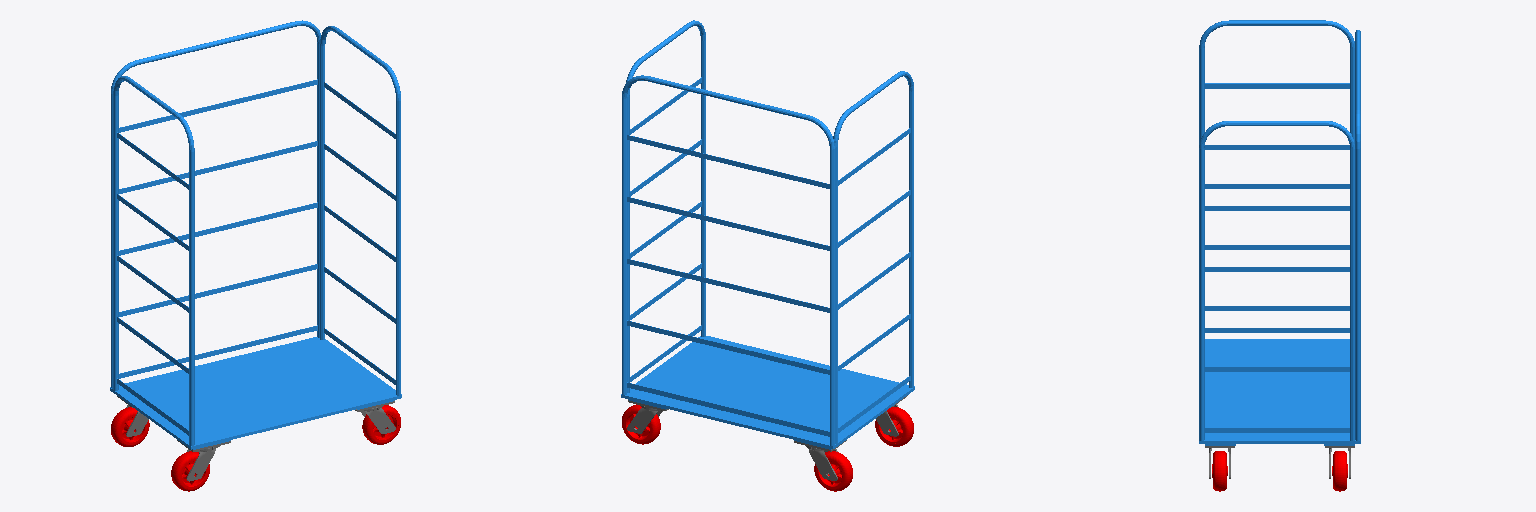
URDF robot description (RollerCage):
<?xml version="1.0" encoding="utf-8"?>
<!-- This URDF was automatically created by SolidWorks to URDF Exporter! Originally created by [author] ([email redacted]) 
     Commit Version: 1.6.0-1-g15f4949  Build Version: 1.6.7594.29634
     For more information, please see http://wiki.ros.org/sw_urdf_exporter -->
<robot
  name="RollerCage">
  <link
    name="base_footprint_link">
    <inertial>
      <origin
        xyz="-5.8497E-05 0.022743 0.35356"
        rpy="0 0 0" />
      <mass
        value="14.845" />
      <inertia
        ixx="2.926"
        ixy="0.00024486"
        ixz="0.00035081"
        iyy="4.0179"
        iyz="-0.21275"
        izz="2.451" />
    </inertial>
    <visual>
      <origin
        xyz="0 0 0"
        rpy="0 0 0" />
      <geometry>
        <mesh
          filename="package://RollerCage/meshes/base_footprint_link.STL" />
      </geometry>
      <material
        name="">
        <color
          rgba="0.2 0.6 1 0.8" />
      </material>
    </visual>
    <collision>
      <origin
        xyz="0 0 0"
        rpy="0 0 0" />
      <geometry>
        <mesh
          filename="package://RollerCage/meshes/base_footprint_link.STL" />
      </geometry>
    </collision>
  </link>
  <link
    name="base_link">
    <inertial>
      <origin
        xyz="-7.9082E-05 0.030741 0.23548"
        rpy="0 0 0" />
      <mass
        value="10.983" />
      <inertia
        ixx="2.3953"
        ixy="0.00022518"
        ixz="0.00027492"
        iyy="3.0865"
        iyz="-0.18324"
        izz="1.6576" />
    </inertial>
    <visual>
      <origin
        xyz="0 0 0"
        rpy="0 0 0" />
      <geometry>
        <mesh
          filename="package://RollerCage/meshes/base_link.STL" />
      </geometry>
      <material
        name="">
        <color
          rgba="0.2 0.64 1 0.8" />
      </material>
    </visual>
    <collision>
      <origin
        xyz="0 0 0"
        rpy="0 0 0" />
      <geometry>
        <mesh
          filename="package://RollerCage/meshes/base_link.STL" />
      </geometry>
    </collision>
  </link>
  <joint
    name="base_link_joint"
    type="fixed">
    <origin
      xyz="0 0 0.2055"
      rpy="0 0 0" />
    <parent
      link="base_footprint_link" />
    <child
      link="base_link" />
    <axis
      xyz="0 0 0" />
  </joint>
  <link
    name="Bwheel_link">
    <inertial>
      <origin
        xyz="-9.992E-16 -4.996E-16 -0.044995"
        rpy="0 0 0" />
      <mass
        value="1.3176" />
      <inertia
        ixx="0.068341"
        ixy="1.2497E-05"
        ixz="-1.0754E-17"
        iyy="0.17321"
        iyz="2.4293E-17"
        izz="0.23844" />
    </inertial>
    <visual>
      <origin
        xyz="0 0 0"
        rpy="0 0 0" />
      <geometry>
        <mesh
          filename="package://RollerCage/meshes/Bwheel_link.STL" />
      </geometry>
      <material
        name="">
        <color
          rgba="0.5 0.5 0.5 1" />
      </material>
    </visual>
    <collision>
      <origin
        xyz="0 0 0"
        rpy="0 0 0" />
      <geometry>
        <mesh
          filename="package://RollerCage/meshes/Bwheel_link.STL" />
      </geometry>
    </collision>
  </link>
  <joint
    name="Bwheel_link_joint"
    type="fixed">
    <origin
      xyz="0 0 0"
      rpy="0 0 0" />
    <parent
      link="base_link" />
    <child
      link="Bwheel_link" />
    <axis
      xyz="0 0 0" />
  </joint>
  <link
    name="wheel_link">
    <inertial>
      <origin
        xyz="5.3069E-14 -4.9766E-14 -0.1293"
        rpy="0 0 0" />
      <mass
        value="2.4877" />
      <inertia
        ixx="0.12798"
        ixy="1.9107E-07"
        ixz="-2.224E-15"
        iyy="0.42"
        iyz="1.9975E-15"
        izz="0.54004" />
    </inertial>
    <visual>
      <origin
        xyz="0 0 0"
        rpy="0 0 0" />
      <geometry>
        <mesh
          filename="package://RollerCage/meshes/wheel_link.STL" />
      </geometry>
      <material
        name="">
        <color
          rgba="1 0 0 0.8" />
      </material>
    </visual>
    <collision>
      <origin
        xyz="0 0 0"
        rpy="0 0 0" />
      <geometry>
        <mesh
          filename="package://RollerCage/meshes/wheel_link.STL" />
      </geometry>
    </collision>
  </link>
  <joint
    name="wheel_link_joint"
    type="fixed">
    <origin
      xyz="0 0 0"
      rpy="0 0 0" />
    <parent
      link="Bwheel_link" />
    <child
      link="wheel_link" />
    <axis
      xyz="0 0 0" />
  </joint>
</robot>

--- Facts derived from the render (not from the file) ---
Views: 3 orthographic renders of the robot side by side, from view 1: azimuth 30°, elevation 25°; view 2: azimuth 150°, elevation 25°; view 3: azimuth 270°, elevation 25°.
Model RollerCage with 4 links and 3 joints (3 fixed), rooted at base_footprint_link, posed all joints at 0.
Links seen in each view (by area): view 1: base_link, wheel_link, Bwheel_link; view 2: base_link, wheel_link, Bwheel_link; view 3: base_link, wheel_link.
Link boxes in pixels (x1=…): base_link: x1=110, y1=20, x2=401, y2=449; wheel_link: x1=111, y1=405, x2=400, y2=491; Bwheel_link: x1=117, y1=396, x2=395, y2=481; base_link: x1=621, y1=20, x2=914, y2=449; wheel_link: x1=622, y1=404, x2=913, y2=491; Bwheel_link: x1=627, y1=395, x2=907, y2=480; base_link: x1=1199, y1=20, x2=1360, y2=445; wheel_link: x1=1212, y1=451, x2=1347, y2=491.
Bounding box of the posed robot: 0.9662 × 0.6 × 1.52 m (x, y, z).
Meshes: 4 distinct files referenced, 3 mesh visuals loaded (3 binary STL); not drawn: 1 (reference not matched to a file when rendering).